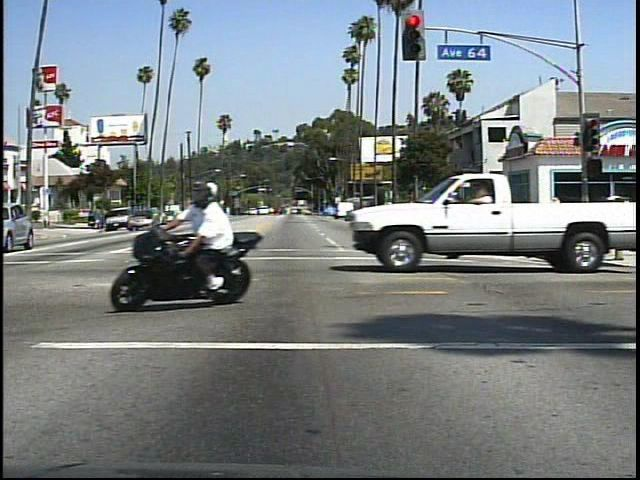person: (175, 177, 251, 301), (543, 192, 571, 245)
